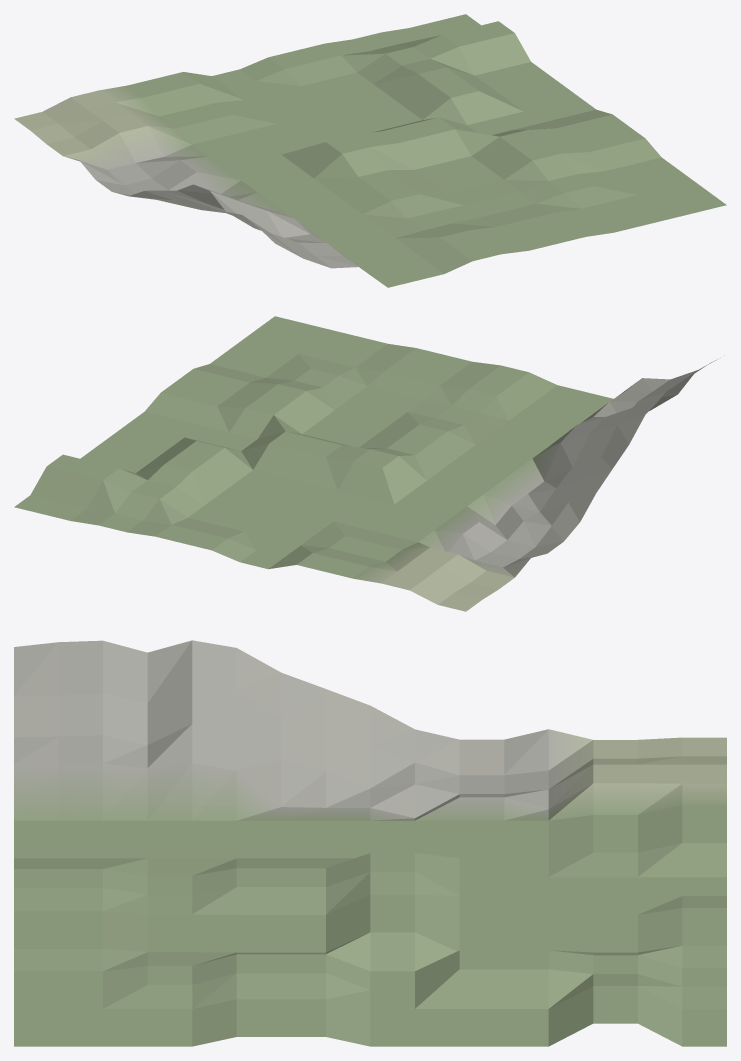
3 renders of one model, top to bottom at view 1: azimuth 30°, elevation 25°; view 2: azimuth 150°, elevation 25°; view 3: azimuth 270°, elevation 25°, orthographic. The views are drawn at different scales.
Size of the model in its own units: 32 by 6.02 by 32.
